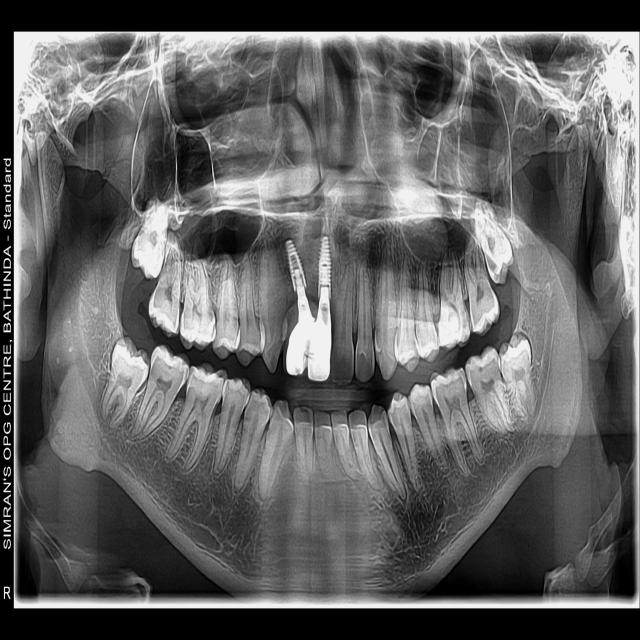Implant: (285, 239, 306, 291), (318, 237, 331, 300)
impacted tooth: (101, 337, 149, 428), (474, 201, 514, 284), (498, 335, 535, 423), (131, 203, 169, 279)
